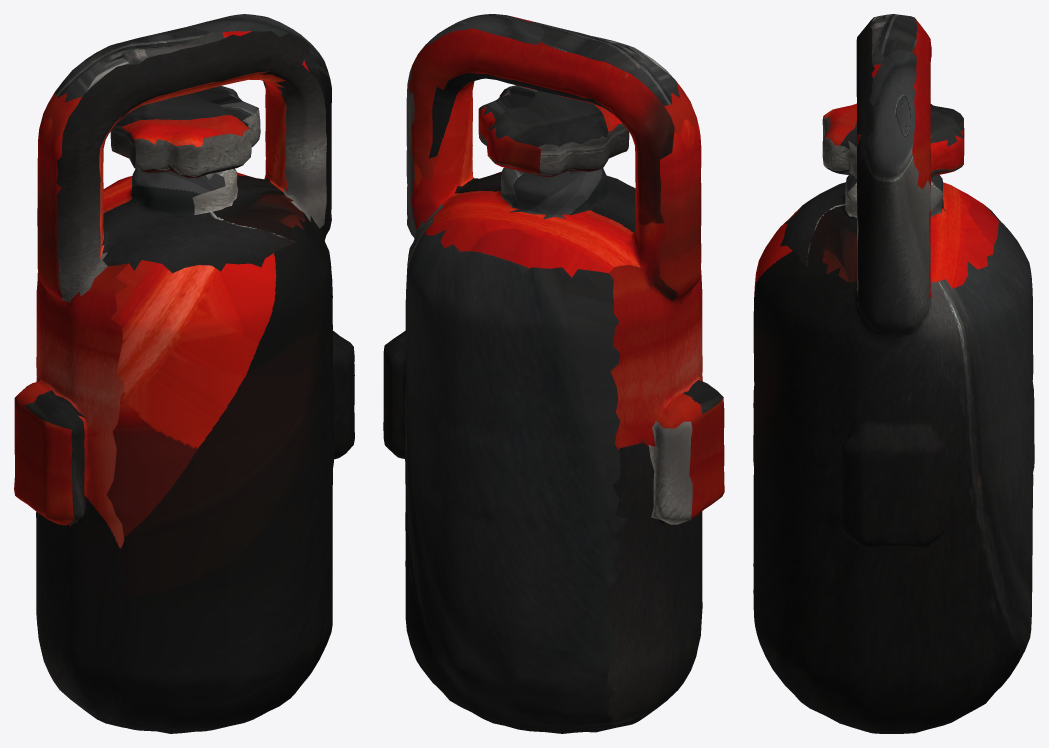
3 renders of one model, left to right at view 1: azimuth 30°, elevation 25°; view 2: azimuth 150°, elevation 25°; view 3: azimuth 270°, elevation 25°, orthographic. The views are drawn at different scales.
Parts seen in each view (by area): view 1: input; view 2: input; view 3: input.
Boxes of the visible parts, left/top/right/bottom form: input: left=14, top=14, right=354, bottom=733; input: left=383, top=14, right=724, bottom=733; input: left=753, top=14, right=1034, bottom=733.
Bounding box in the file's own units: 0.4732 × 0.9857 × 0.3832.
